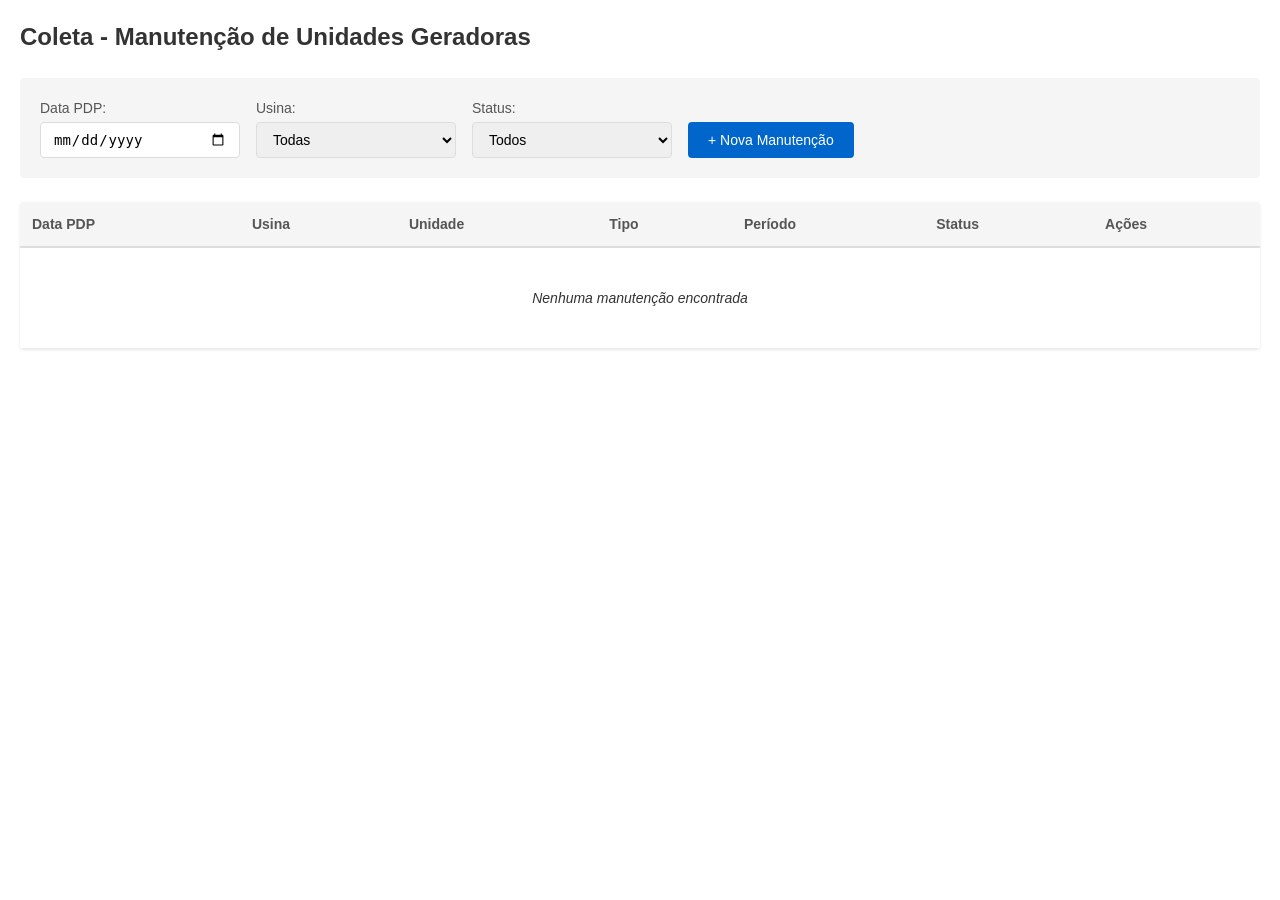
Test: UnitMaintenance Component › deve exibir erro ao falhar ao salvar
Click the button with test id "btn-nova-manutencao".
click(771, 140)  # box [688, 122, 854, 158]
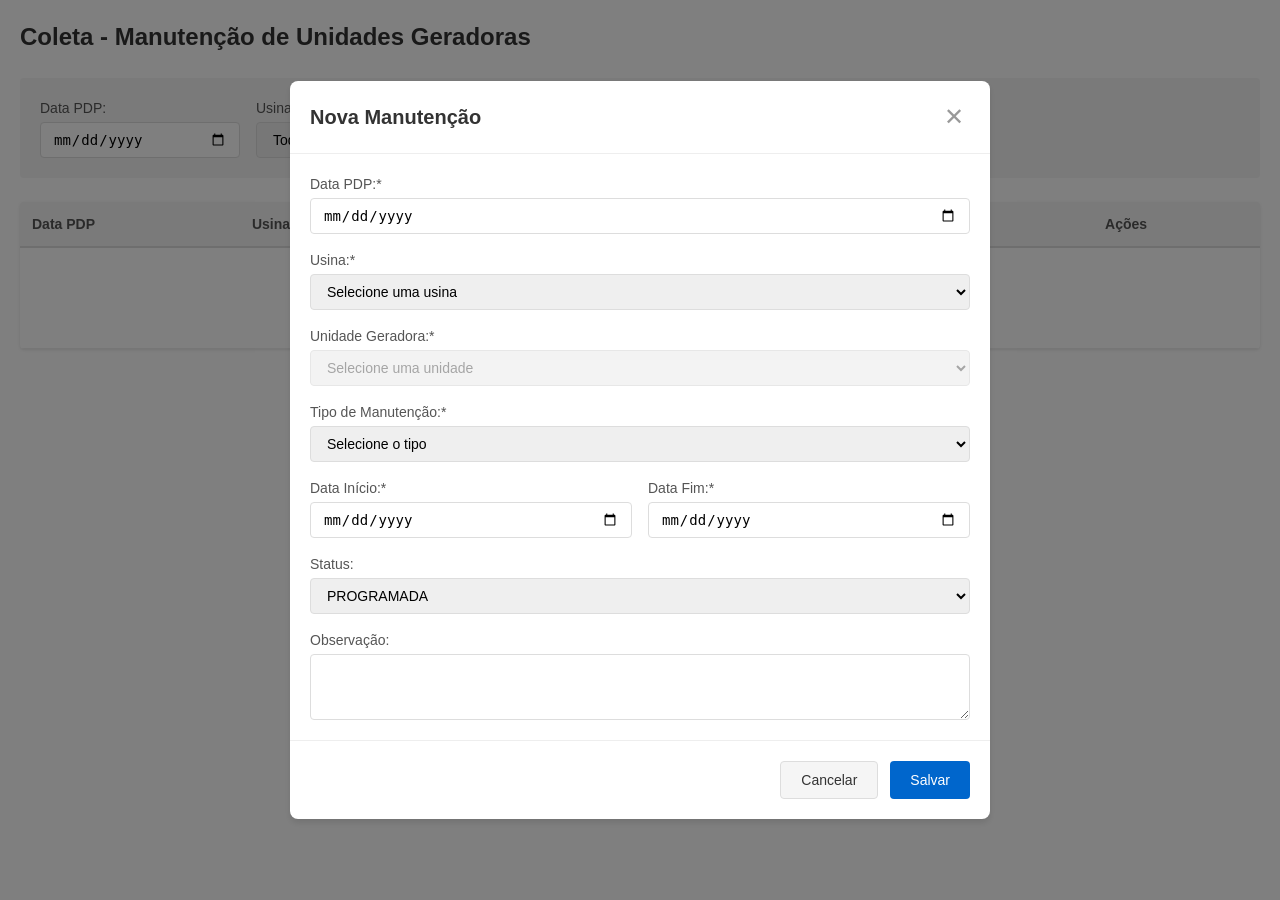
Expected: the element with test id "dialog-form" is shown
Type "2024-01-15" into the date field with test id "form-data-pdp".
click(640, 216); type("2024-01-15")  # box [310, 198, 970, 234]
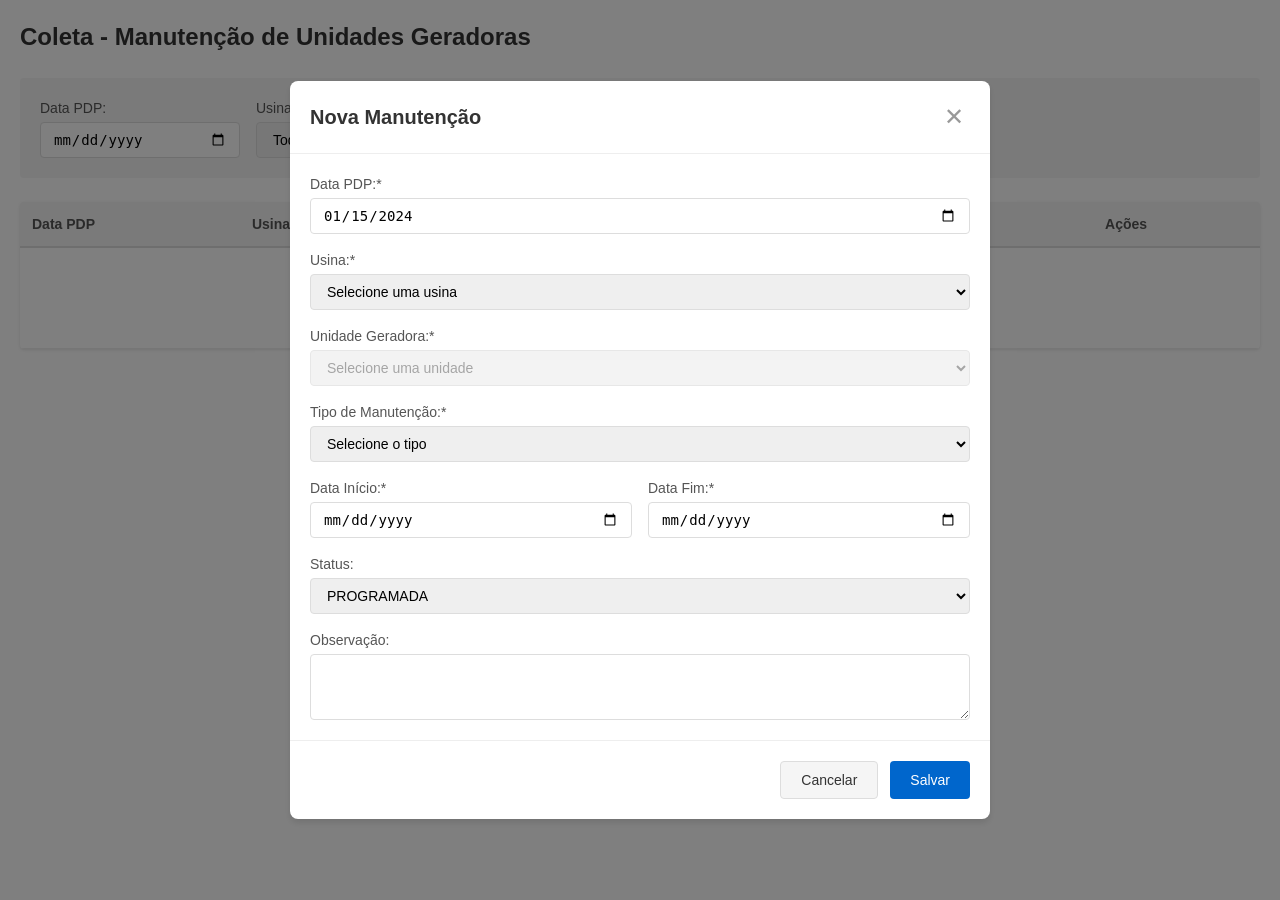
Select "UHE Itaipu" in the dropdown with test id "form-usina" at point(640, 292), box [310, 274, 970, 310]
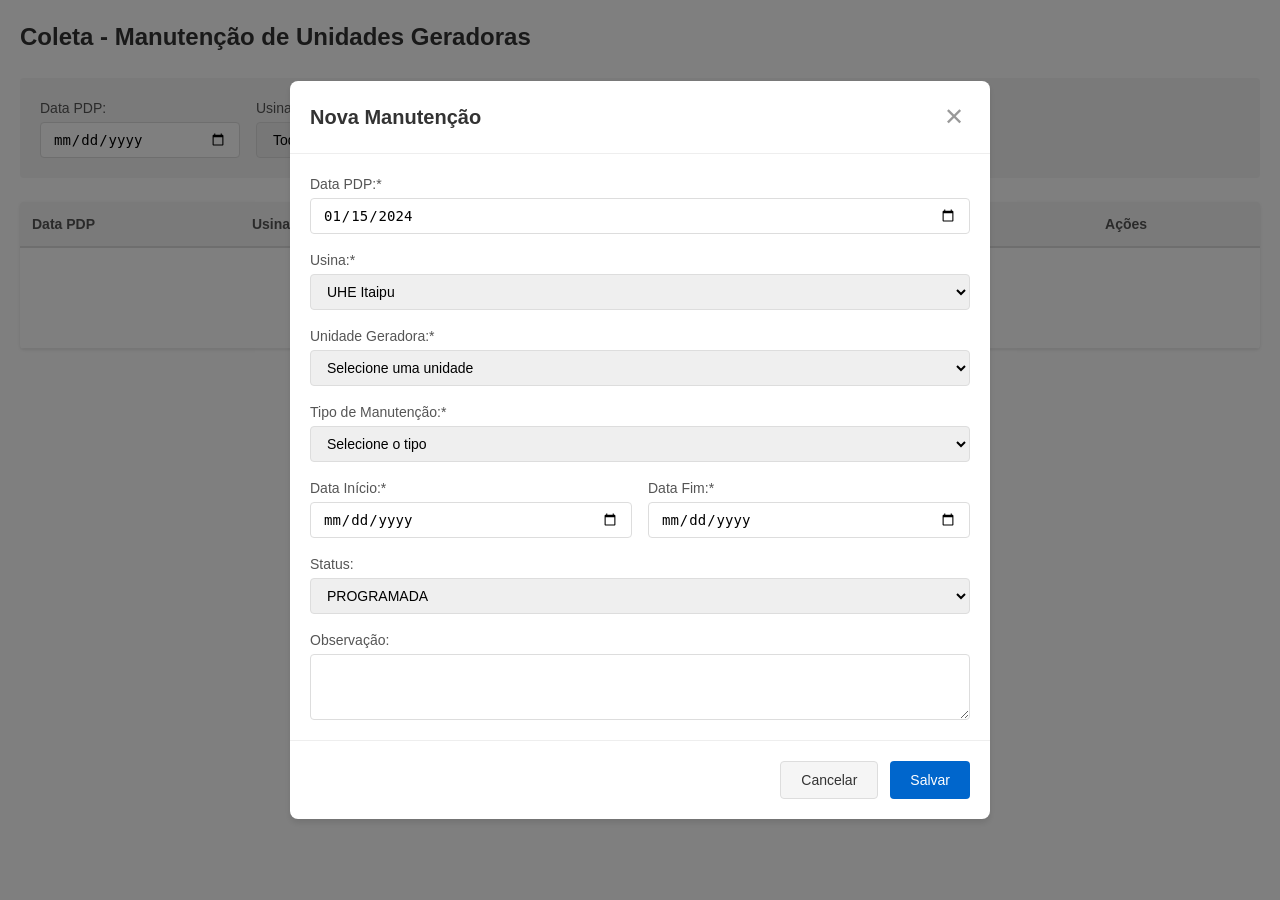
Select "UG01" in the dropdown with test id "form-unidade" at point(640, 368), box [310, 350, 970, 386]
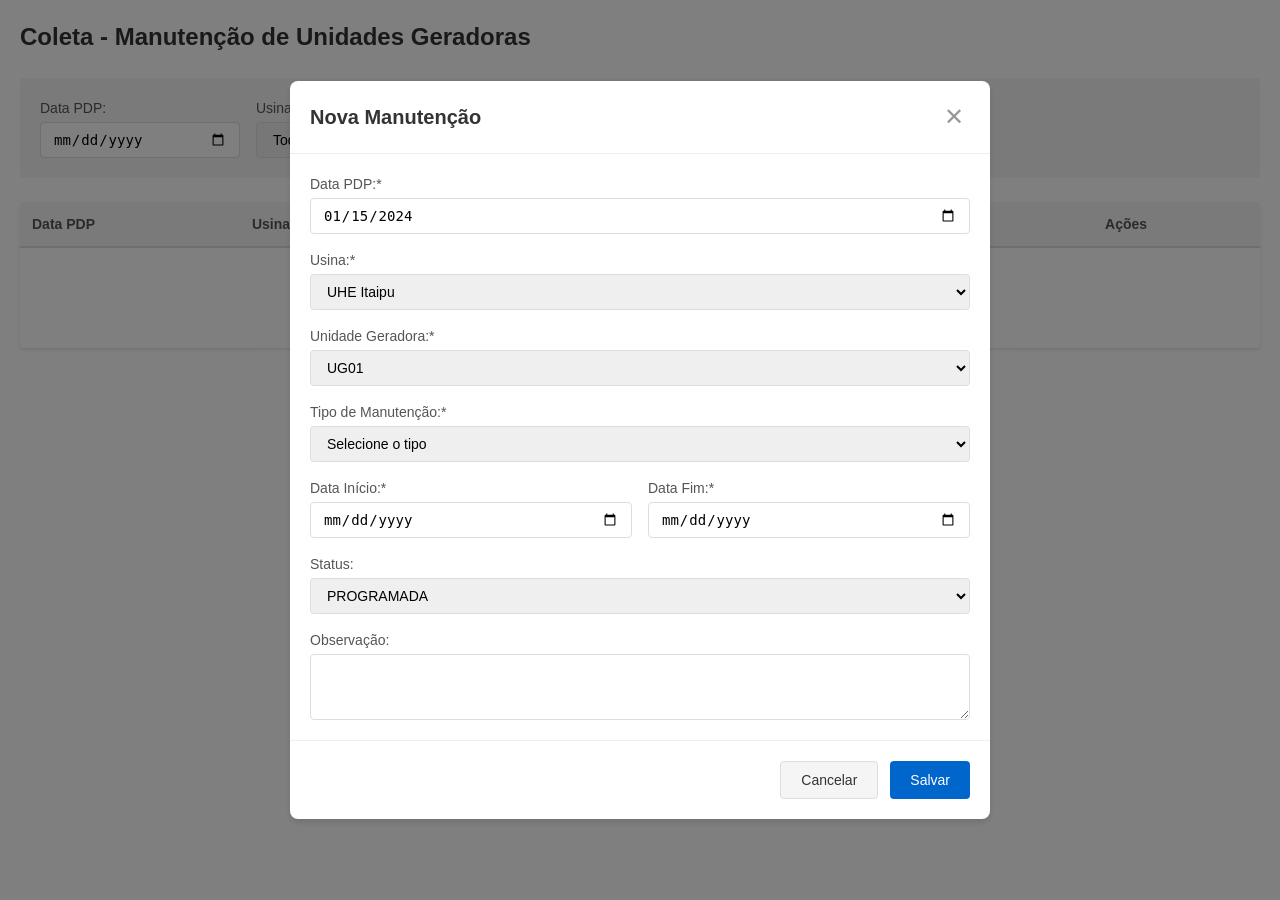
Select "PREVENTIVA" in the dropdown with test id "form-tipo-manutencao" at point(640, 444), box [310, 426, 970, 462]
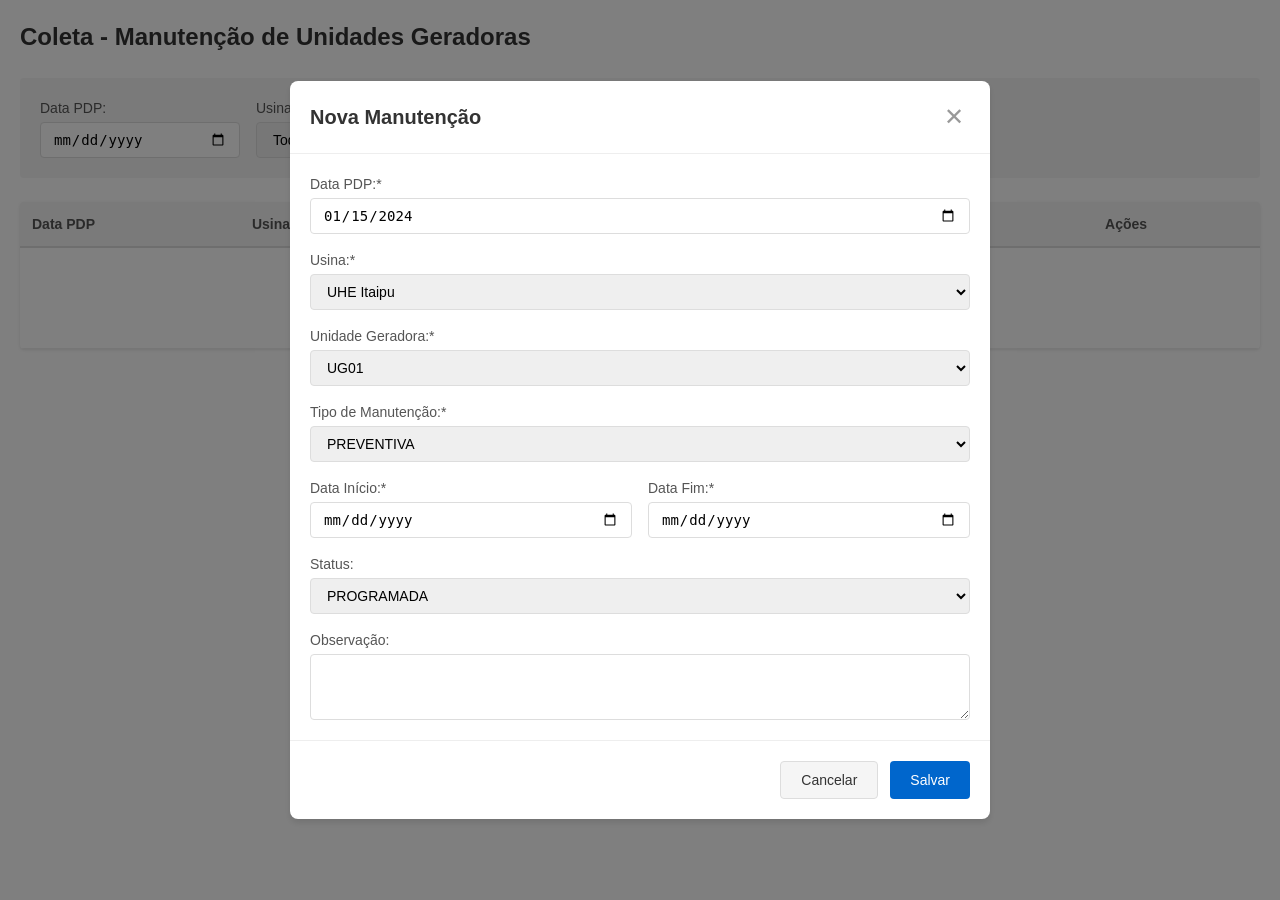
Click the button with test id "btn-save".
click(930, 780)  # box [890, 761, 970, 799]
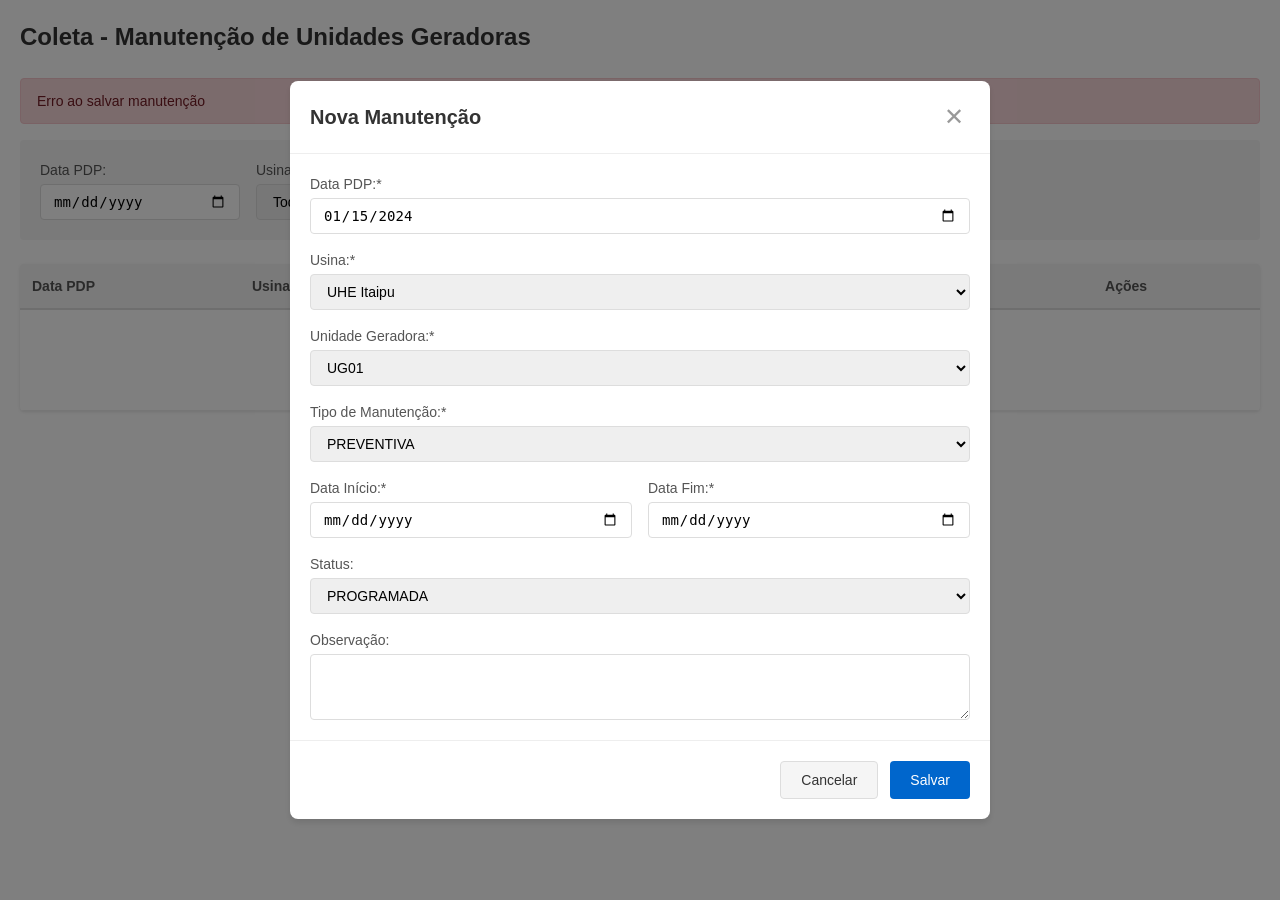
Expected: the text "Erro ao salvar manutenção" is shown, [20, 78, 1260, 124]
